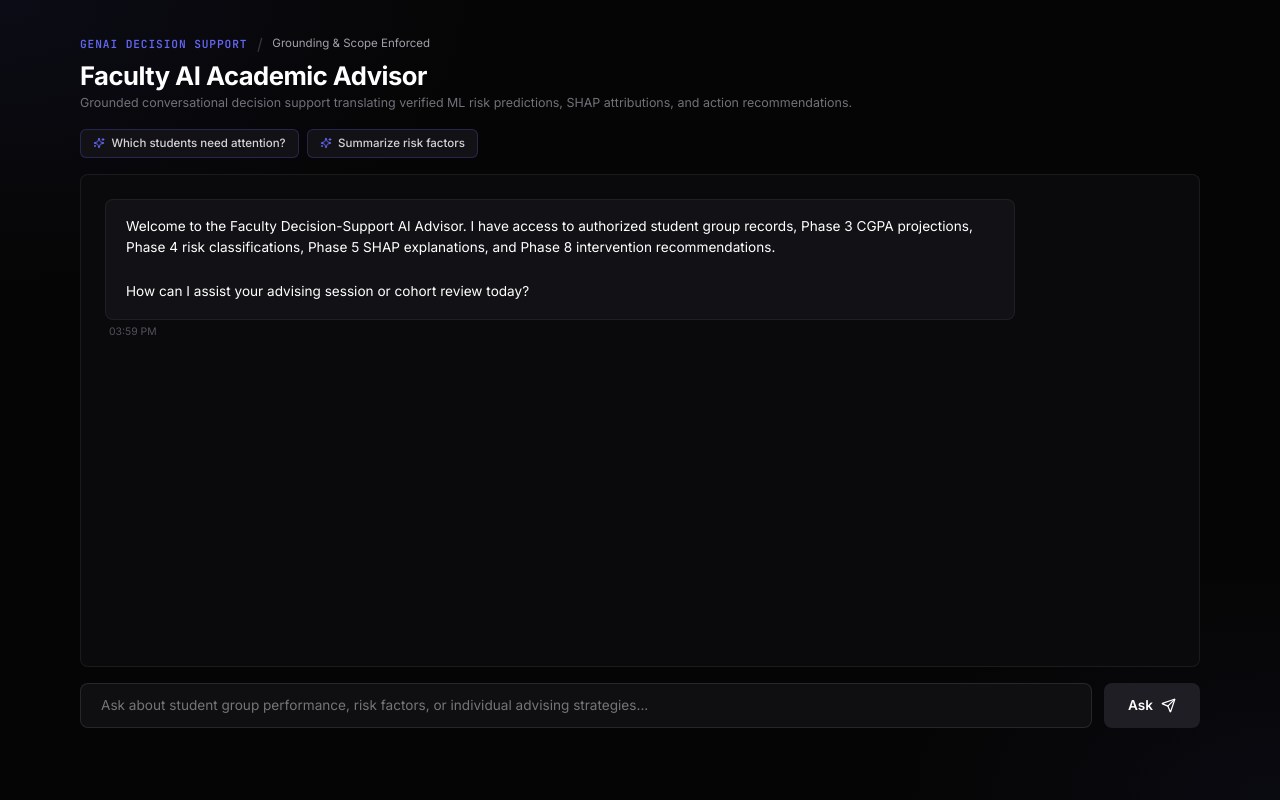
Test: Phase 10: Faculty Intelligence Dashboard › renders Faculty GenAI Assistant and handles inquiry submission
Expected: the heading "Faculty AI Academic Advisor" is shown, x1=80 y1=60 x2=427 y2=91
Expected: the text "Which students need attention?" is shown, x1=111 y1=136 x2=286 y2=150
Replace the text in the field with placeholder "Ask about student group performance" with "Which students are high risk?". click: (586, 705)
box: x1=80 y1=683 x2=1092 y2=728
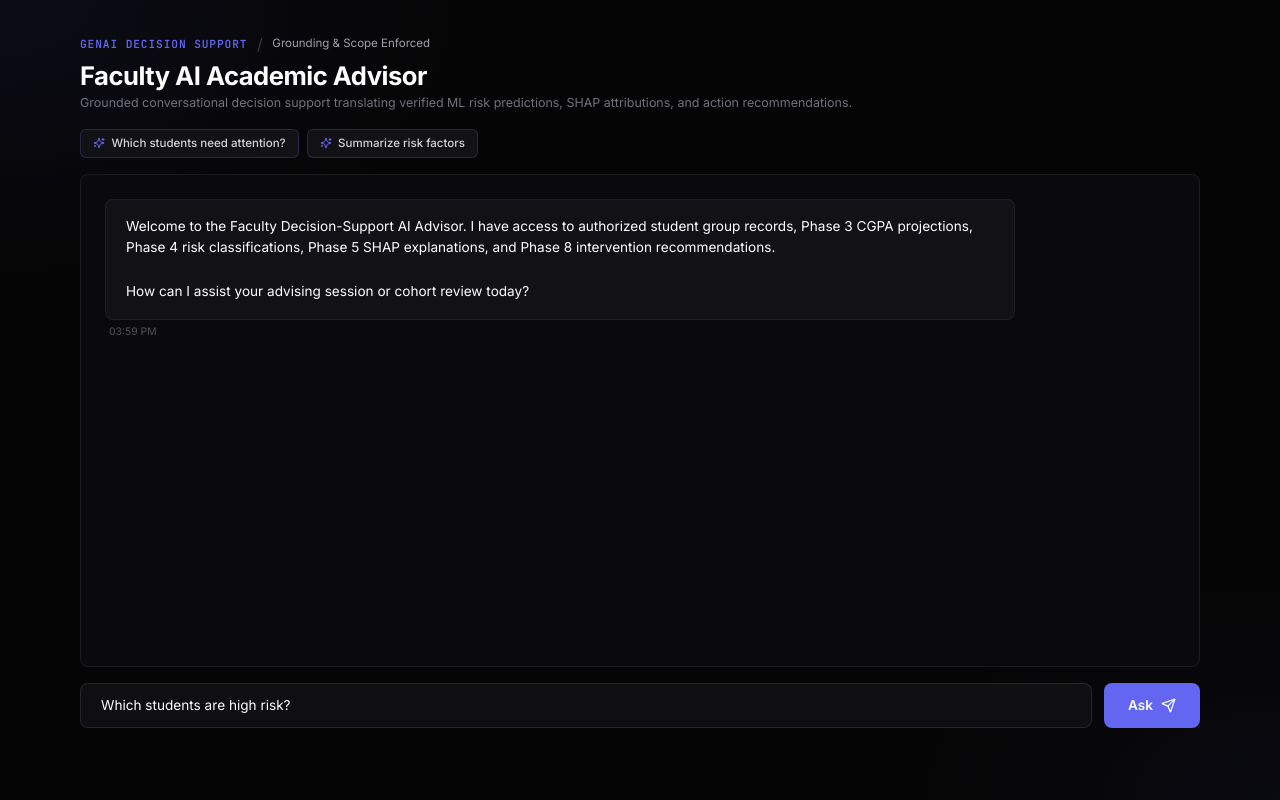
Click the button "Ask". click: (1152, 705)
box: x1=1104 y1=683 x2=1200 y2=728
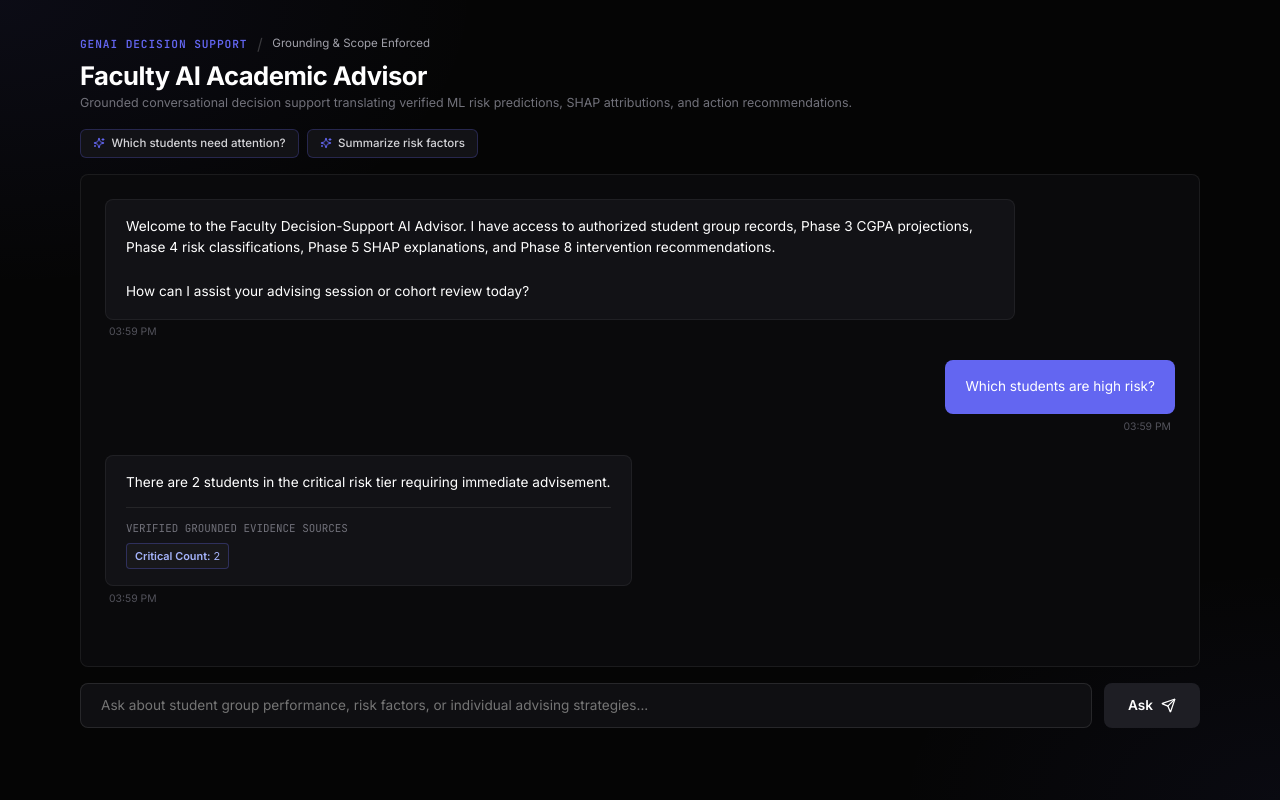
Expected: the text "There are 2 students in the critical risk tier" is shown, x1=126 y1=474 x2=610 y2=490
Expected: the text "Critical Count:" is shown, x1=135 y1=549 x2=210 y2=563
